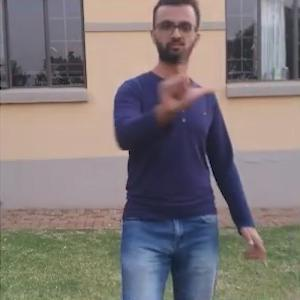land_hand: (150, 48, 223, 110)
